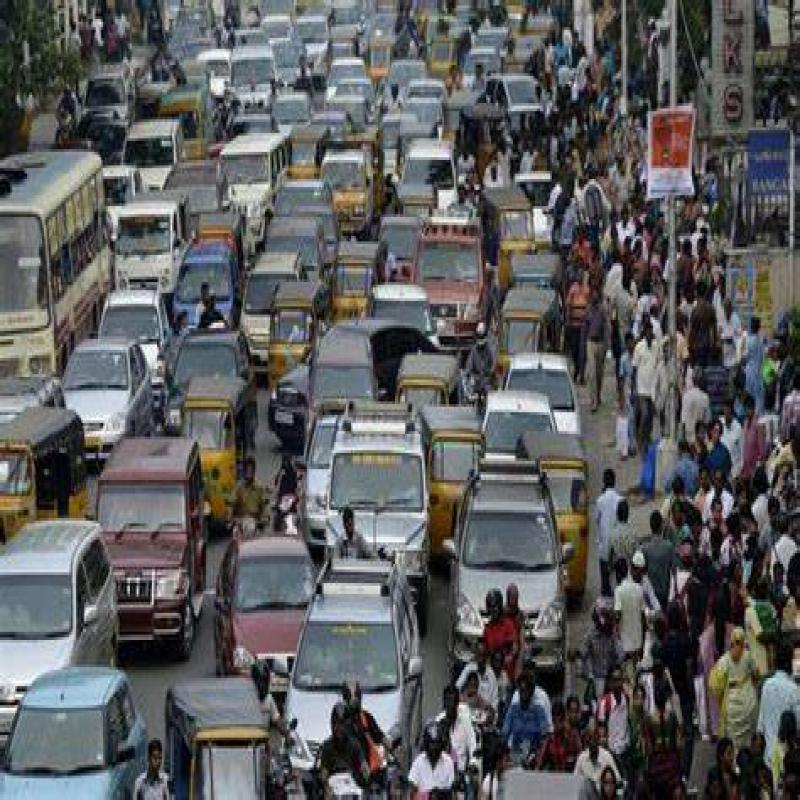car: (7, 512, 118, 734), (455, 470, 569, 668), (300, 588, 408, 779), (0, 672, 152, 800), (221, 532, 321, 710), (108, 436, 211, 604), (338, 422, 428, 588), (61, 331, 154, 462), (507, 333, 599, 458), (480, 389, 556, 491)
